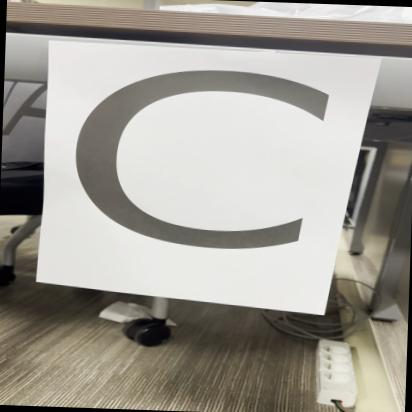seat: (56, 34, 350, 309)
